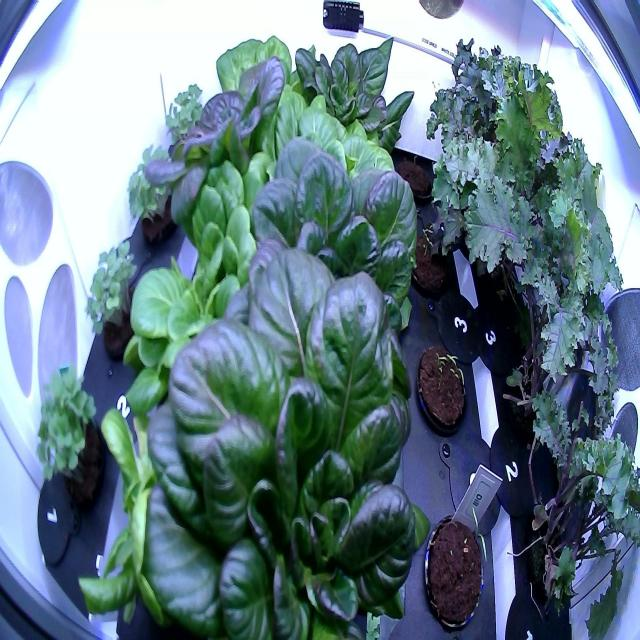Ready: (121, 231, 432, 640), (138, 46, 296, 301), (241, 83, 404, 278), (266, 21, 418, 177)
germination: (419, 494, 493, 634), (412, 336, 469, 444), (400, 219, 455, 302)
pod: (388, 138, 440, 214)
young: (105, 153, 295, 436), (222, 129, 427, 371)
